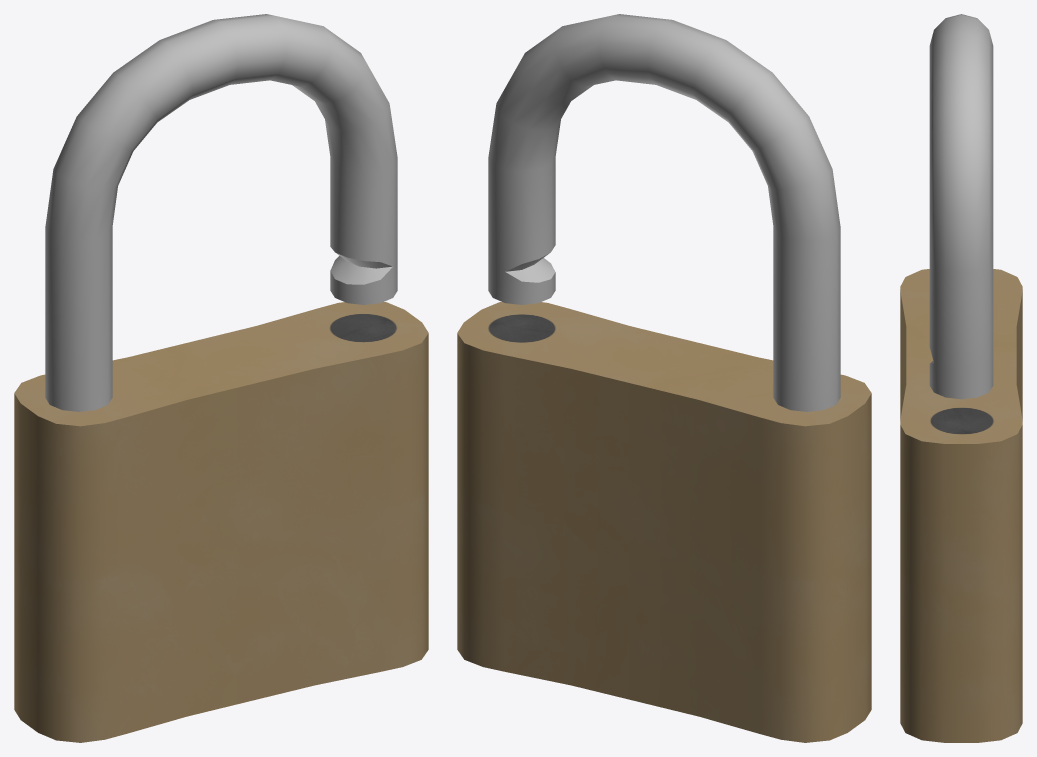
3 renders of one model, left to right at view 1: azimuth 30°, elevation 25°; view 2: azimuth 150°, elevation 25°; view 3: azimuth 270°, elevation 25°, orthographic. The views are drawn at different scales.
Visible parts, largest first — view 1: lower_low, Upper_low; view 2: lower_low, Upper_low; view 3: lower_low, Upper_low.
Part boxes in pixels (left/top/right/bottom): lower_low: left=14, top=302, right=428, bottom=742; Upper_low: left=45, top=14, right=397, bottom=411; lower_low: left=457, top=302, right=871, bottom=742; Upper_low: left=488, top=14, right=840, bottom=411; lower_low: left=900, top=269, right=1022, bottom=742; Upper_low: left=929, top=14, right=993, bottom=399.
Bounding box in the file's own units: 6.6 × 10.8 × 1.93.
Materials: 1 (1 with a texture image).
